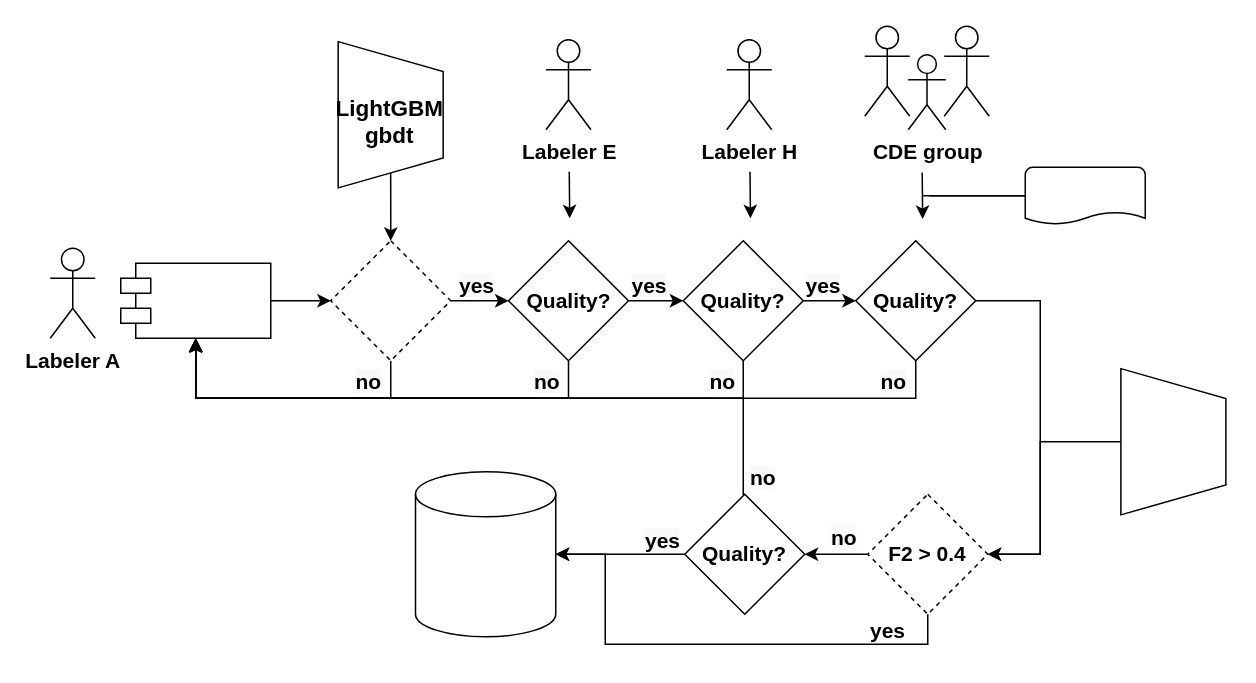
Some shapes in this 1256 by 683 pixel diagram are drawn without their labels. The centre of each missing label's shape, as x and y in pixels:
"CloudSEN12 labels" goes at [485,553].
"Difficulty" goes at [1084,195].
"IRIS Sofware" goes at [195,300].
"OA > 0.95" goes at [390,300].
"U-Net SEN2L1C" goes at [1172,441].
